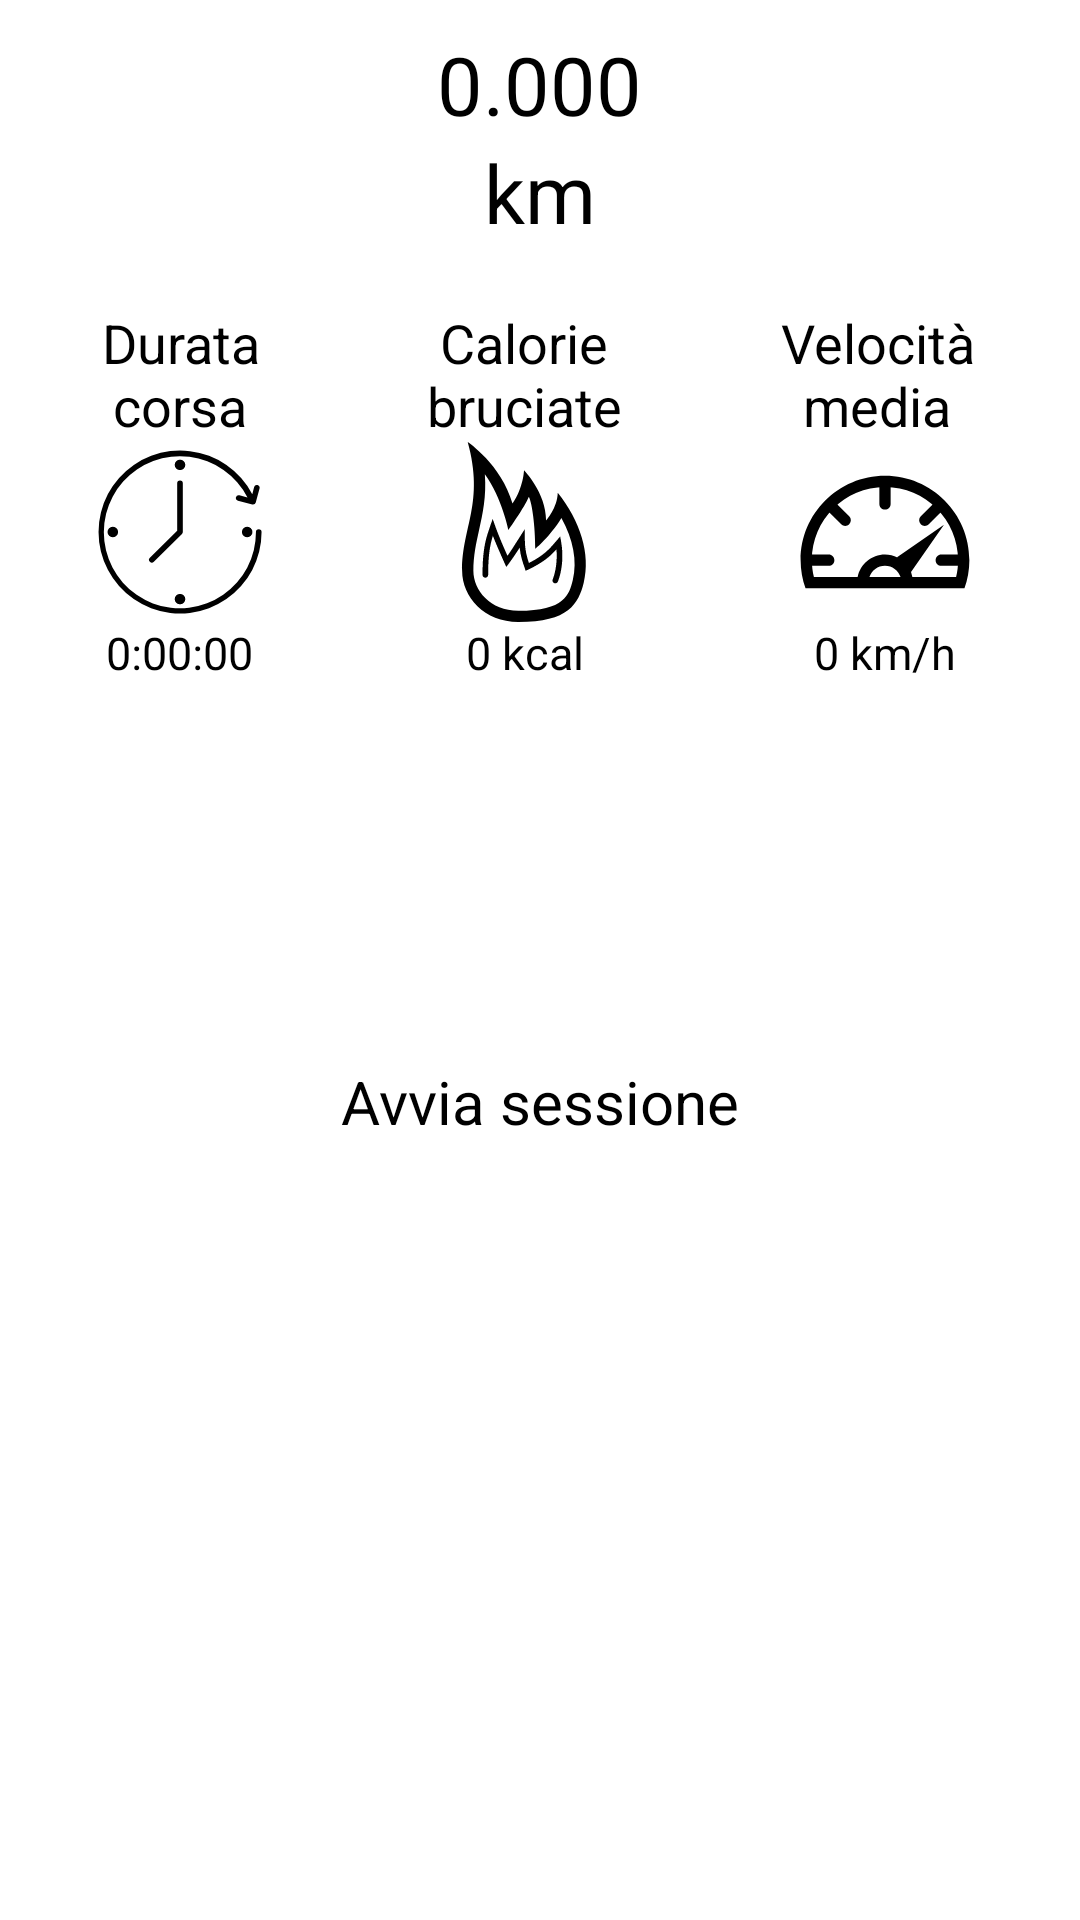

Point at icon controls on the screen. Image size 1080 x 1920, points as (x=x, y=y).
speed: (x=885, y=532)
timer: (x=180, y=532)
